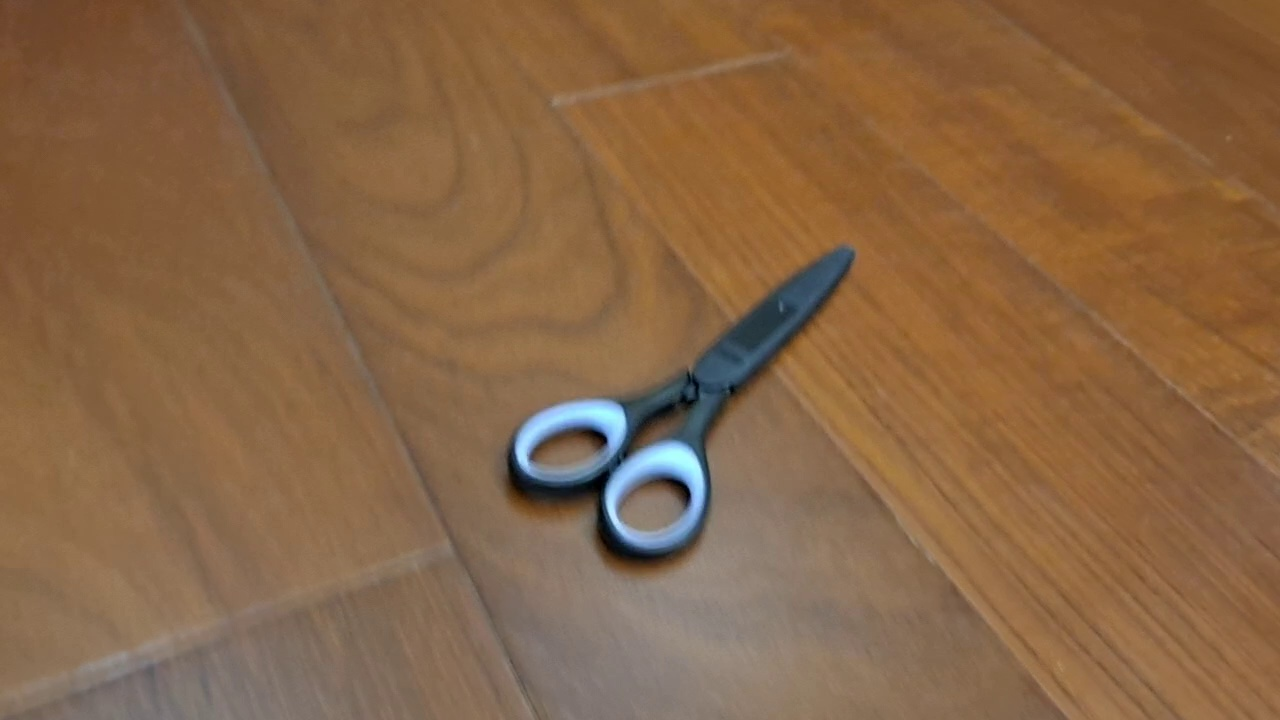scissors: (505, 242, 857, 568)
